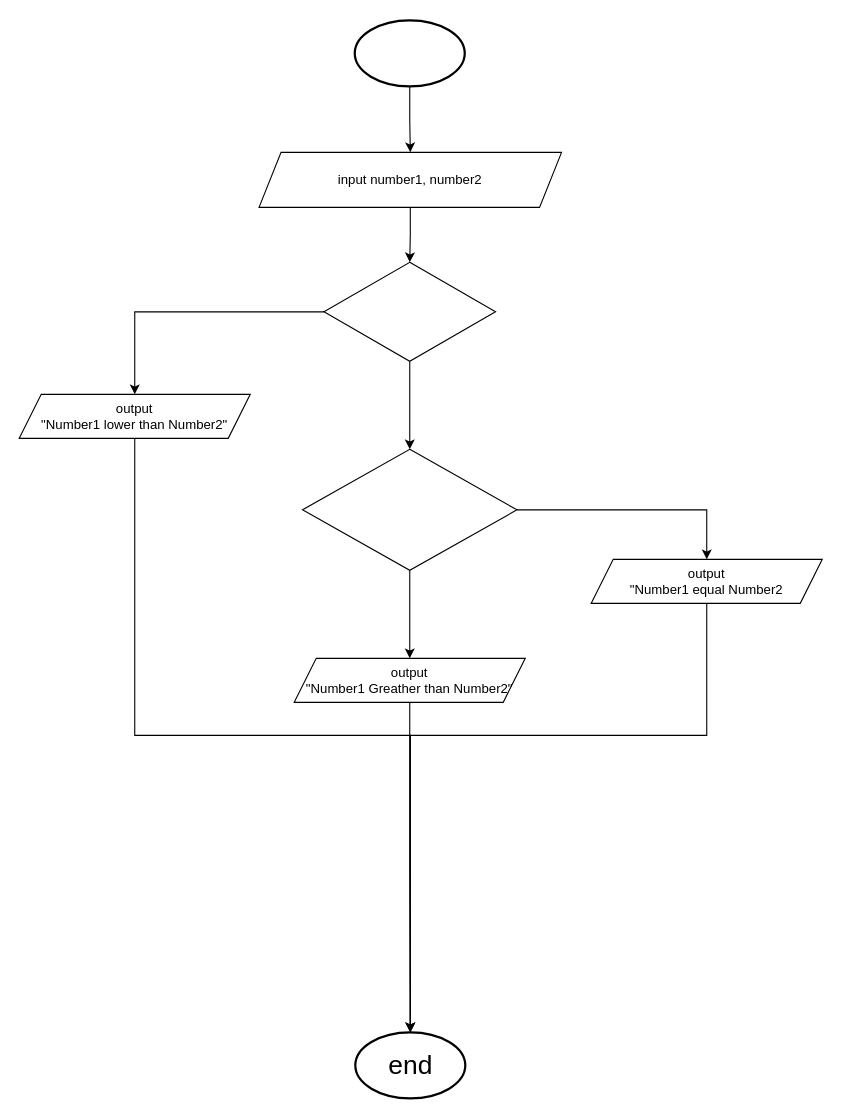
This 842x1118 diagram has some shape labels left out. Each missing label, with the centre of its shape:
else if ( number1 > number 2): [409,509]
if ( number1 < number2): [409,311]
start: [409,53]
